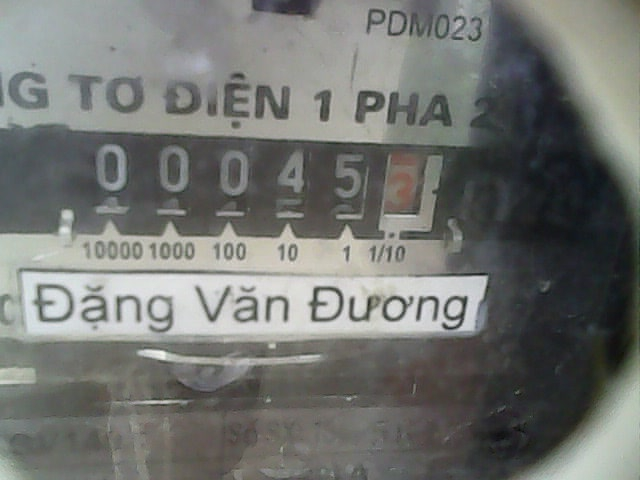phy_plate: (67, 125, 450, 249)
